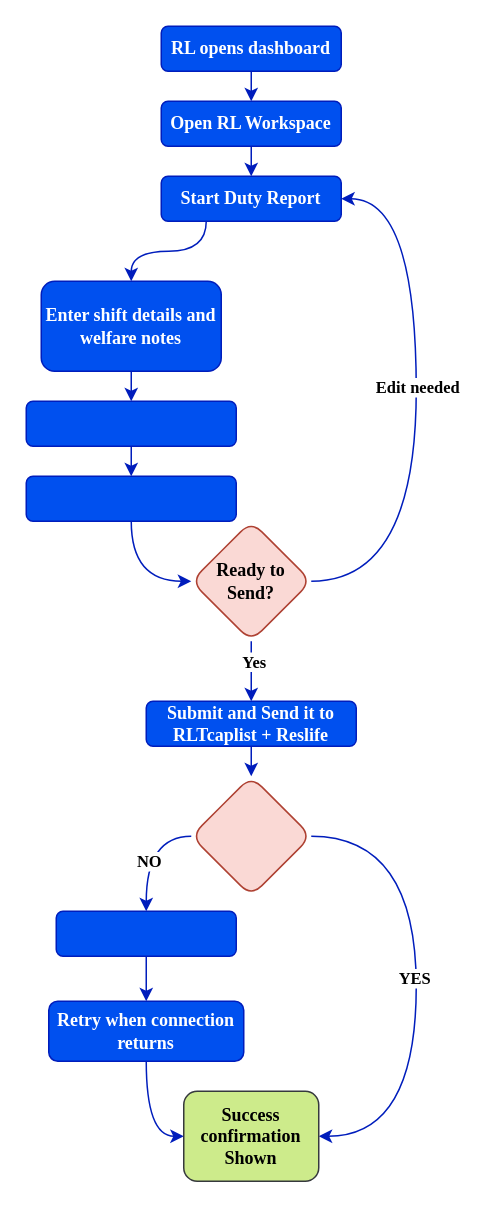
Some shapes in this 485 by 1208 pixel diagram are drawn without their labels. Each missing label, with the box of its shape:
Complete location checks: (25, 400, 236, 446)
Connection available?: (190, 775, 311, 896)
Offline draft saved: (55, 910, 236, 956)
Review report summary: (25, 475, 236, 521)
